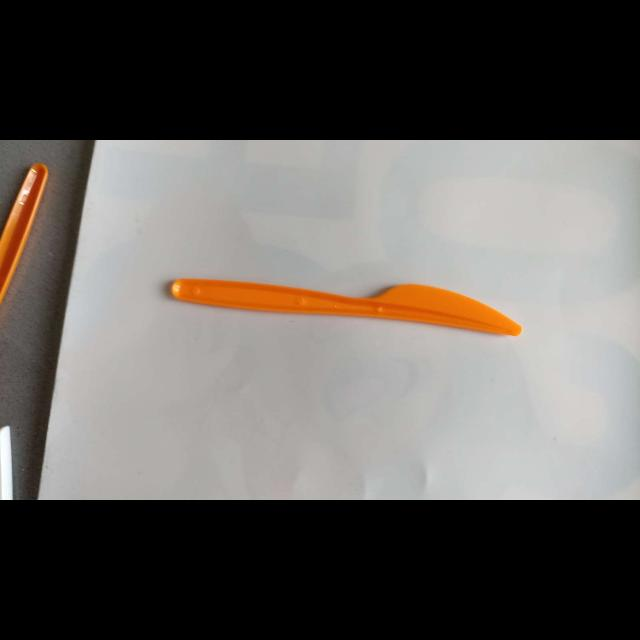plastic_cultery: (168, 272, 528, 342)
